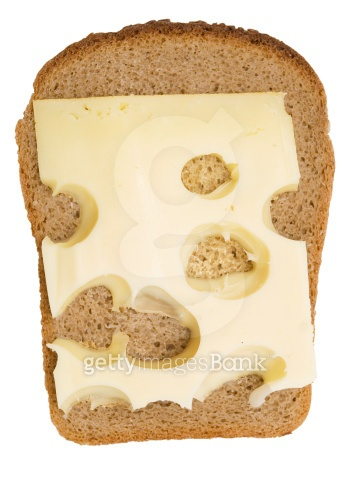slice of bread: (13, 16, 338, 446)
